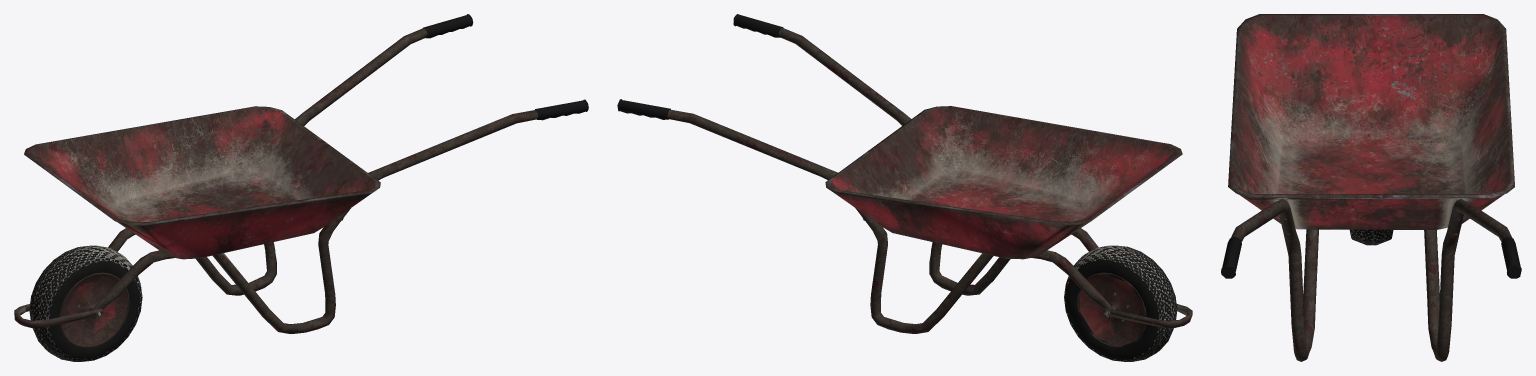
Rendered from wheelbarrow.glb.
The picture shows the model from 3 angles, left to right: view 1: azimuth 30°, elevation 25°; view 2: azimuth 150°, elevation 25°; view 3: azimuth 270°, elevation 25°; orthographic projection. The views are drawn at different scales.
Visible parts, largest first — view 1: Base, Weel; view 2: Base, Weel; view 3: Base, Weel.
Part boxes in pixels (x1=…): Base: x1=14, y1=14, x2=588, y2=333; Weel: x1=29, y1=245, x2=142, y2=361; Base: x1=617, y1=14, x2=1192, y2=333; Weel: x1=1064, y1=245, x2=1177, y2=361; Base: x1=1221, y1=14, x2=1521, y2=361; Weel: x1=1349, y1=229, x2=1393, y2=245.
Size of the model in its own units: 2.33 by 0.8465 by 0.9668.
Materials: 1 (1 with a texture image).
